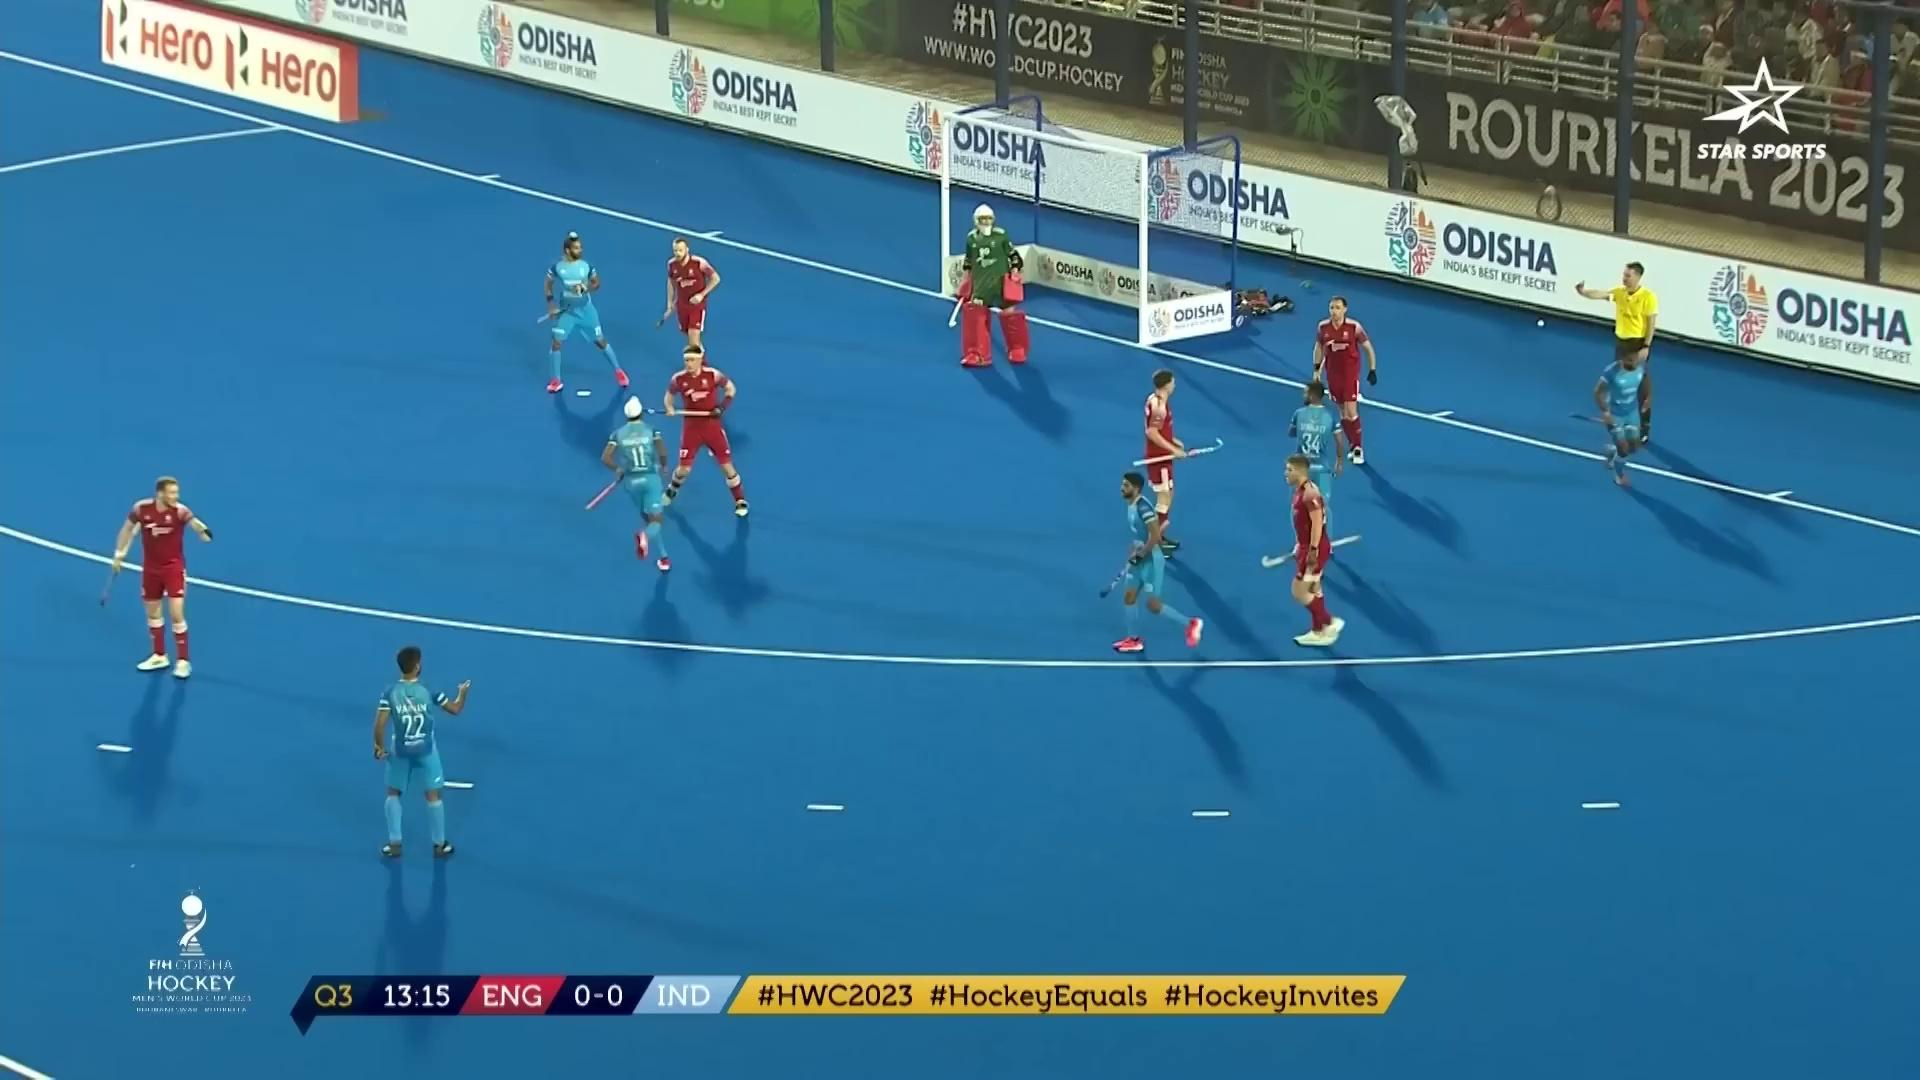ball: (1535, 318, 1548, 331)
